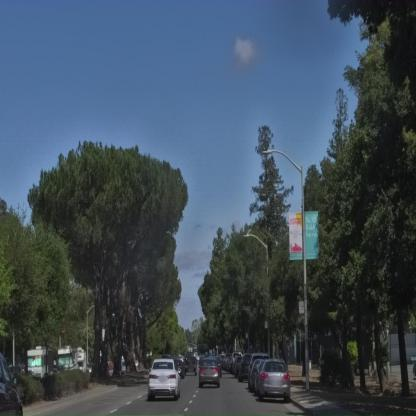bus: (25, 339, 92, 390)
car: (0, 332, 28, 416), (253, 359, 292, 401), (147, 360, 181, 401), (241, 354, 270, 385), (198, 359, 220, 388)
